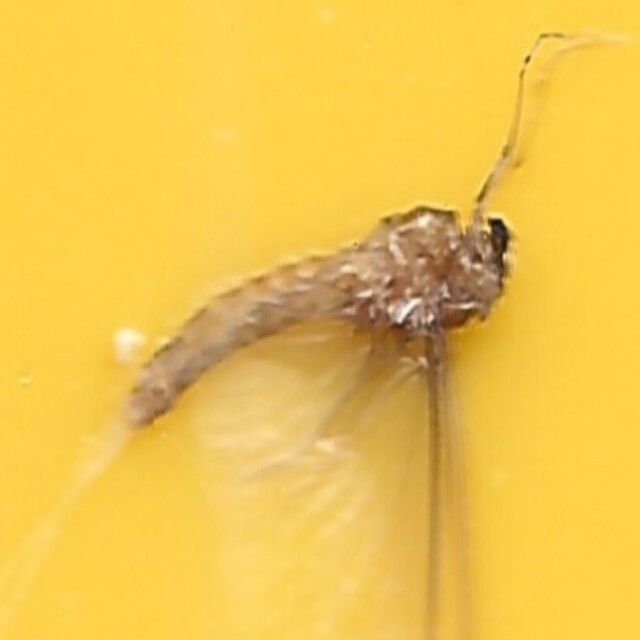Ephemeroptera: (129, 201, 511, 439)
